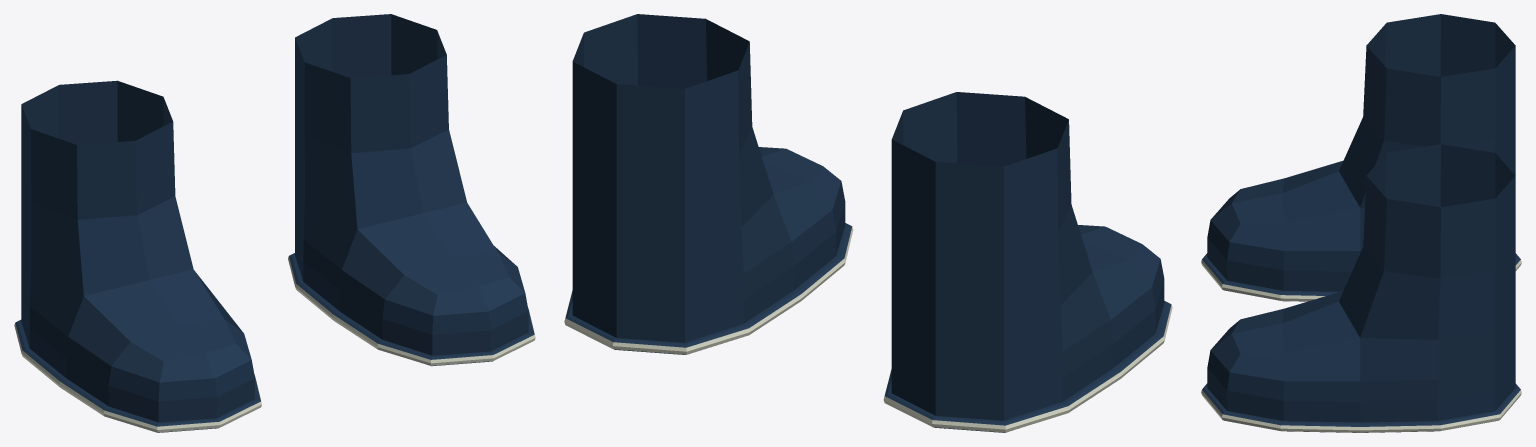
The model's file is boots_low-poly_shoes.glb.
3 views of the same model, side by side, from view 1: azimuth 30°, elevation 25°; view 2: azimuth 150°, elevation 25°; view 3: azimuth 270°, elevation 25° (orthographic). The views are drawn at different scales.
Parts seen in each view (by area): view 1: Cube.001; view 2: Cube.001; view 3: Cube.001.
Boxes of the visible parts, x1=… form: Cube.001: x1=14, y1=14, x2=535, y2=432; Cube.001: x1=564, y1=14, x2=1172, y2=432; Cube.001: x1=1201, y1=14, x2=1521, y2=432.
Size of the model in its own units: 5.99 by 3 by 3.94.
